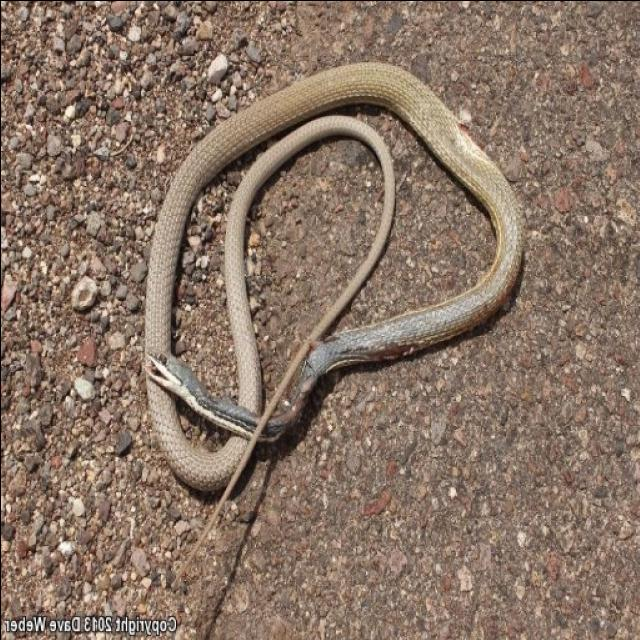snake: (123, 50, 530, 507)
